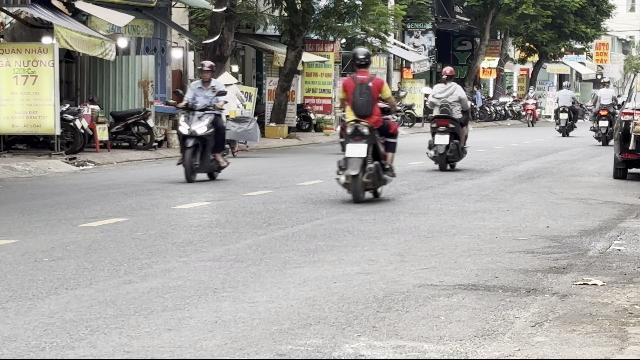helmet: (350, 46, 372, 72), (196, 60, 214, 82), (439, 66, 455, 82)
licenseplate: (346, 144, 366, 156), (435, 135, 449, 145)
motorcyclist: (332, 46, 400, 202), (172, 59, 240, 183), (424, 66, 472, 170)
